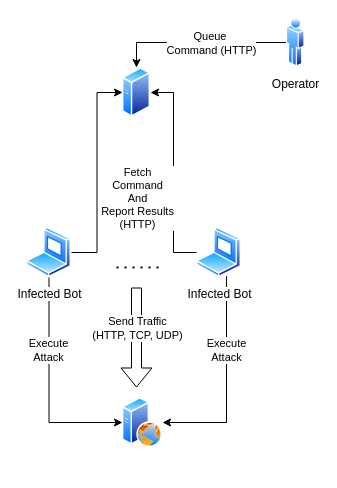
The diagram is 337 pixels wide and 488 high, and some of its shapes have lost their labels. Here are the shapes that lost their labels. From the top down, the centre of each, then its label:
At point (136, 92): "C2 server".
At point (142, 422): "Target Server".
